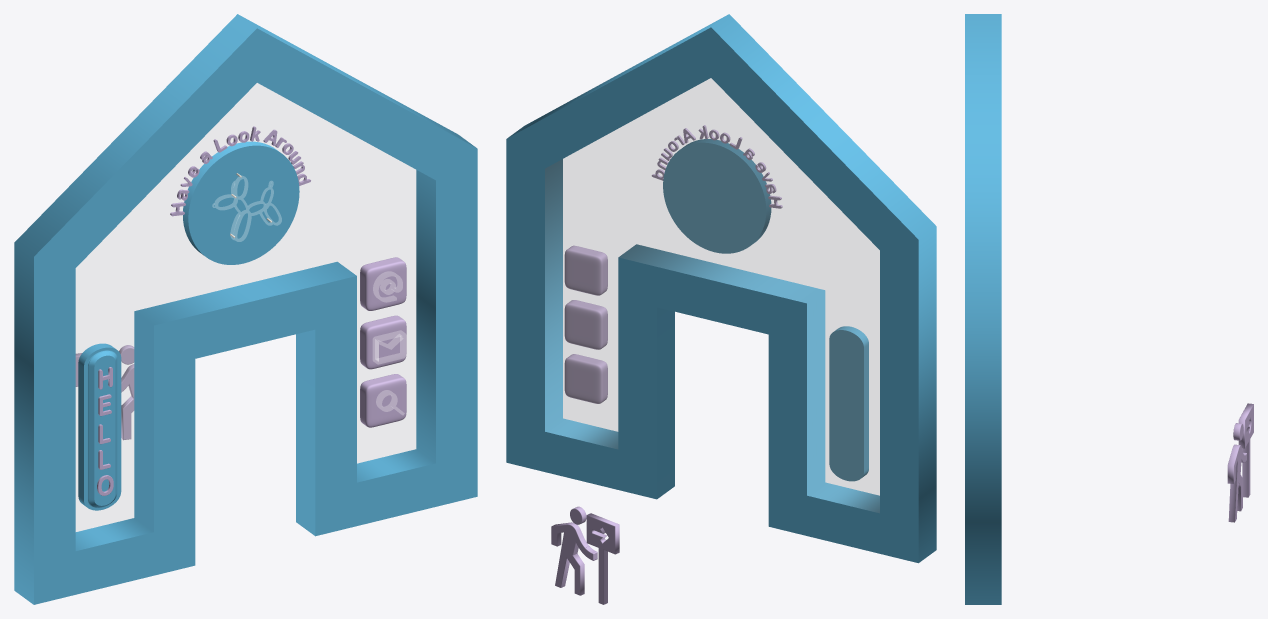
The model's file is home-3d-site.gltf.
The picture shows the model from 3 angles, left to right: view 1: azimuth 30°, elevation 25°; view 2: azimuth 150°, elevation 25°; view 3: azimuth 270°, elevation 25°; orthographic projection. The views are drawn at different scales.
Parts seen in each view (by area): view 1: Home Icon, Circle, Hello Sign, Cube.001, Cube.002, Cube.003, Text, Balloon Dog.001, Follow the Signs Icon, Mail Icon; view 2: Home Icon, Circle, Hello Sign, Follow the Signs Icon, Cube.002, Cube.001, Cube.003, Text; view 3: Home Icon, Follow the Signs Icon.
Part boxes in pixels (x1,y1,x2,y2): Home Icon: (14,14,477,604); Circle: (183,141,299,264); Hello Sign: (78,343,121,510); Cube.001: (360,374,406,427); Cube.002: (360,257,406,310); Cube.003: (360,315,406,369); Text: (170,126,310,216); Balloon Dog.001: (212,176,281,241); Follow the Signs Icon: (75,345,134,440); Mail Icon: (373,330,406,364); Home Icon: (506,14,936,563); Circle: (663,139,771,253); Hello Sign: (829,326,868,481); Follow the Signs Icon: (551,506,619,604); Cube.002: (564,245,607,295); Cube.001: (564,354,607,403); Cube.003: (564,300,607,349); Text: (651,125,782,208); Home Icon: (965,14,1001,604); Follow the Signs Icon: (1227,403,1253,522).
Size of the model in its own units: 8.37 by 9.42 by 5.03.
